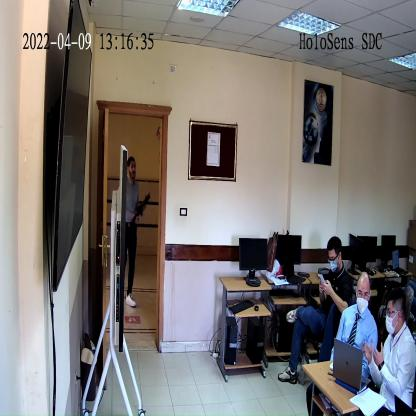handgun: (131, 193, 152, 226)
